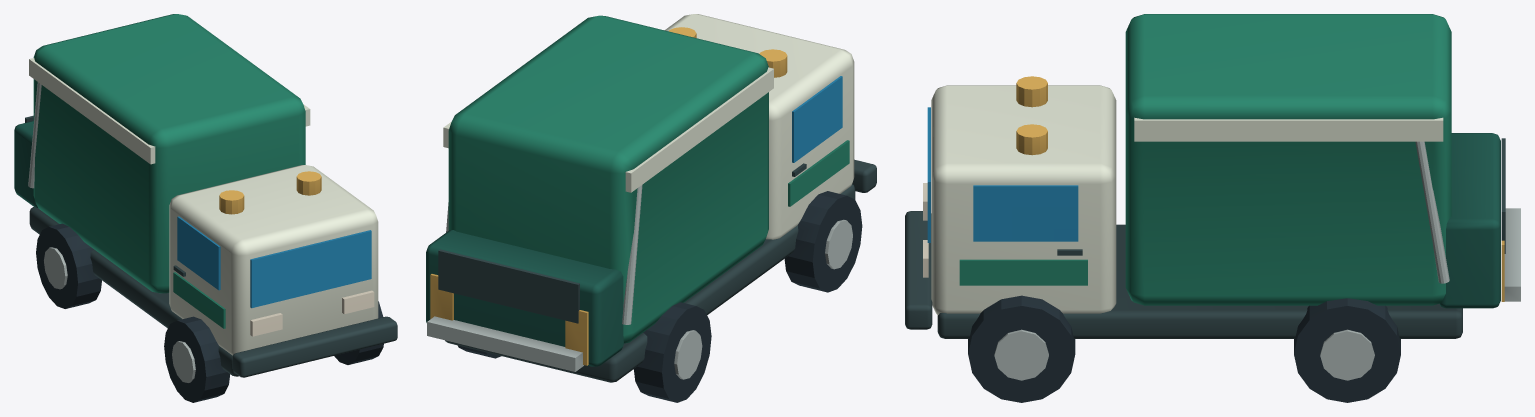
Rendered from cleanup-truck.glb.
3 views of the same model, side by side, from view 1: azimuth 30°, elevation 25°; view 2: azimuth 150°, elevation 25°; view 3: azimuth 270°, elevation 25° (orthographic). The views are drawn at different scales.
Parts seen in each view (by area): view 1: door green band, collection cab, collection windscreen, collection chassis, collection tyre, collection hub, rear hopper, headlight, rear warning stripe; view 2: door green band, collection cab, collection chassis, rear hopper, collection tyre, collection hub, collection windscreen, rear warning stripe; view 3: door green band, collection cab, collection chassis, collection tyre, rear hopper, collection hub, collection windscreen, rear warning stripe.
Part boxes in pixels (box(x1,y1,x2,y2)): door green band: box(33, 14, 305, 328); collection cab: box(29, 58, 378, 355); collection windscreen: box(177, 216, 371, 308); collection chassis: box(25, 115, 397, 377); collection tyre: box(36, 223, 383, 402); collection hub: box(28, 82, 195, 382); rear hopper: box(14, 121, 37, 207); headlight: box(250, 290, 374, 336); rear warning stripe: box(219, 171, 321, 214); door green band: box(448, 15, 849, 343); collection cab: box(443, 14, 854, 239); collection chassis: box(438, 159, 876, 382); rear hopper: box(426, 230, 623, 366); collection tyre: box(457, 191, 862, 402); collection hub: box(427, 184, 852, 379); collection windscreen: box(792, 76, 842, 162); rear warning stripe: box(430, 27, 787, 365); door green band: box(959, 14, 1451, 305); collection cab: box(931, 85, 1443, 314); collection chassis: box(905, 138, 1505, 338); collection tyre: box(968, 295, 1400, 402); rear hopper: box(1439, 133, 1500, 308); collection hub: box(994, 141, 1520, 380); collection windscreen: box(927, 107, 1078, 242); rear warning stripe: box(1016, 76, 1504, 301).
Size of the model in its own units: 1.28 by 1.53 by 2.93.
